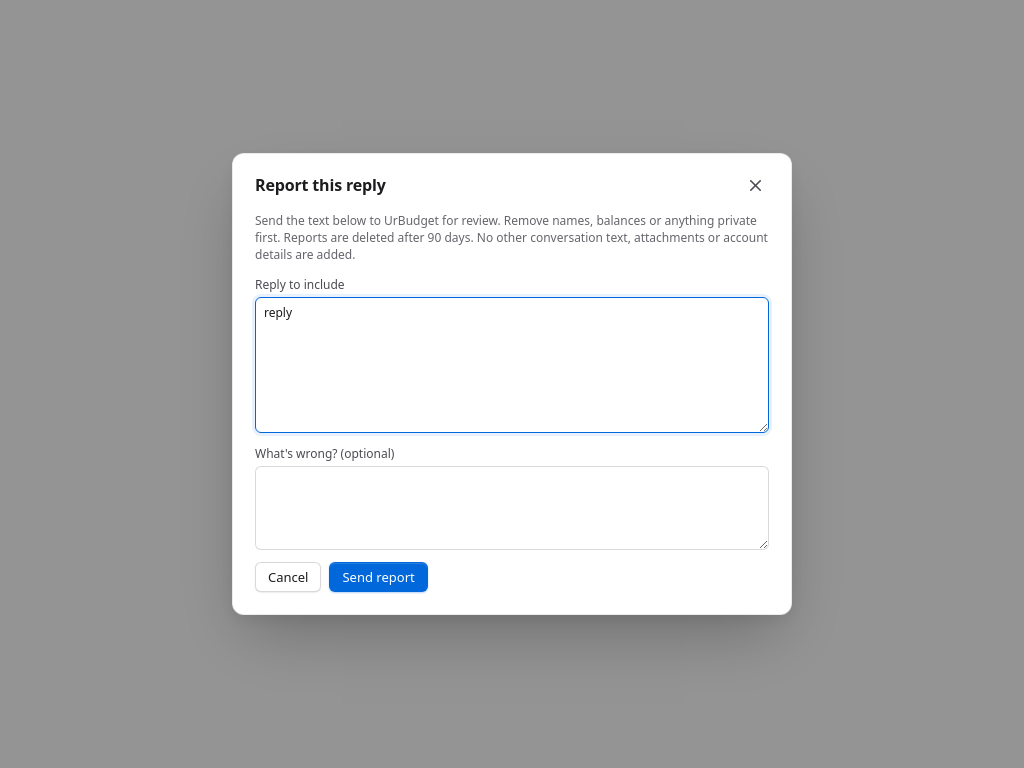
Test: preserves edits after a network failure and permits an explicit retry
The width and height of the screenshot is (1024, 768).
Type "Unsafe advice" into the text box labelled "What's wrong? (optional)" at x=512, y=508, box [255,466,769,550]
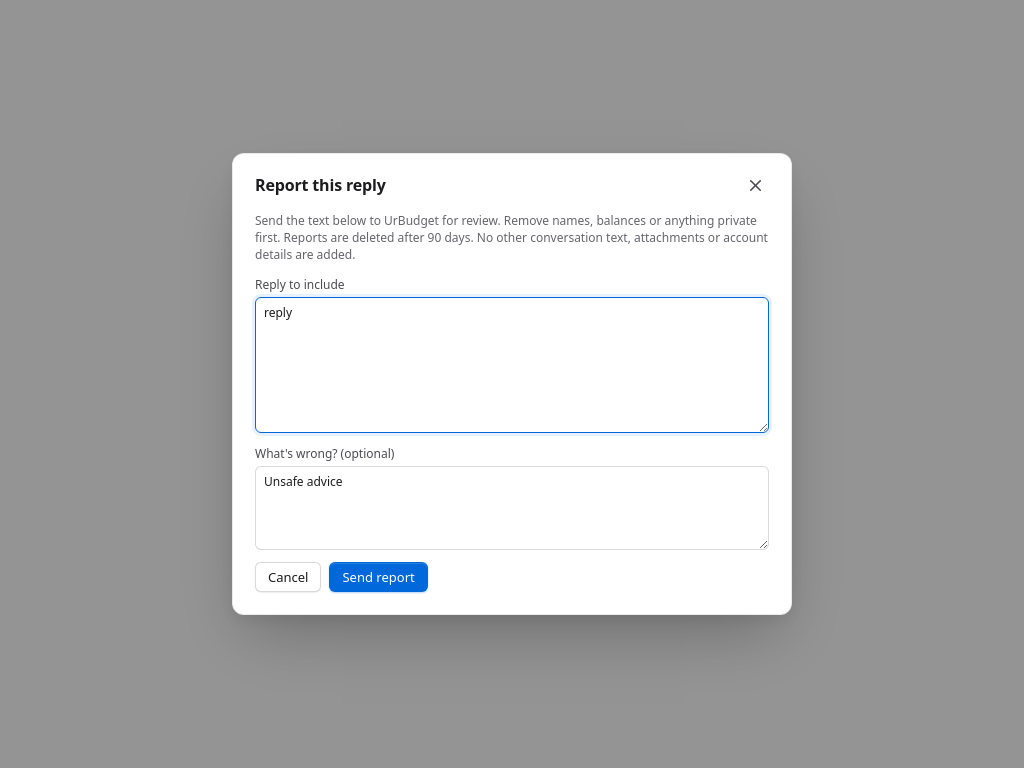
Click the button "Send report" at x=379, y=577, box [330,562,428,592]
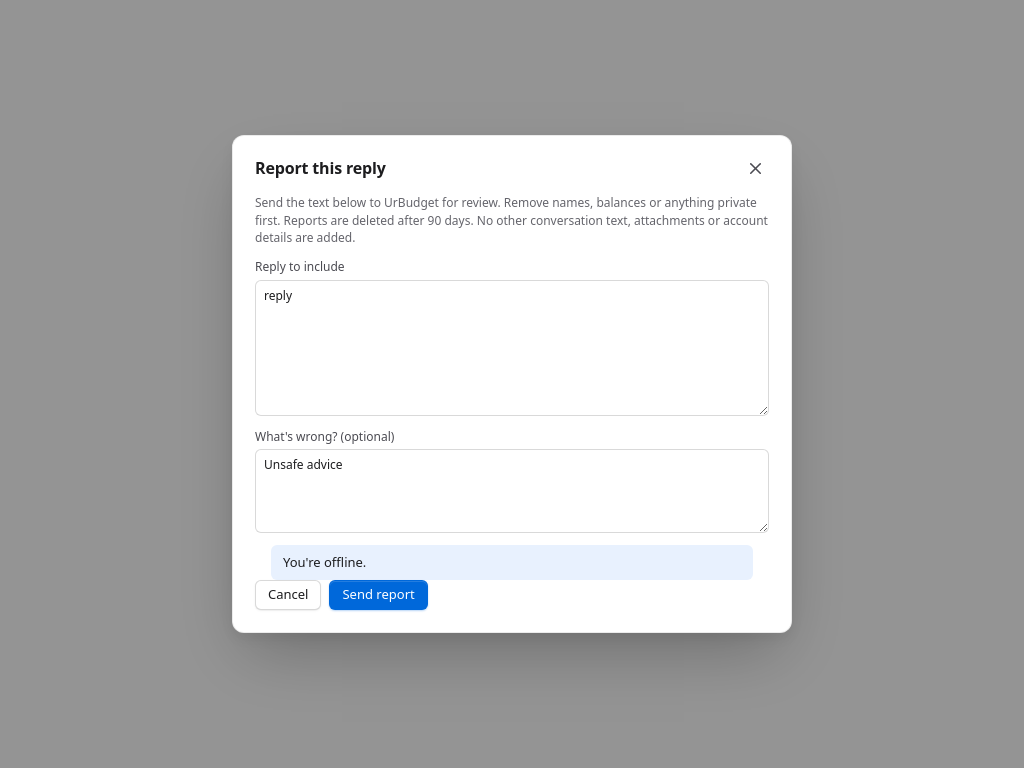
Check: the message reads "You're offline.", box [283,553,366,571]
Click the button "Send report" at x=379, y=595, box [330,580,428,610]
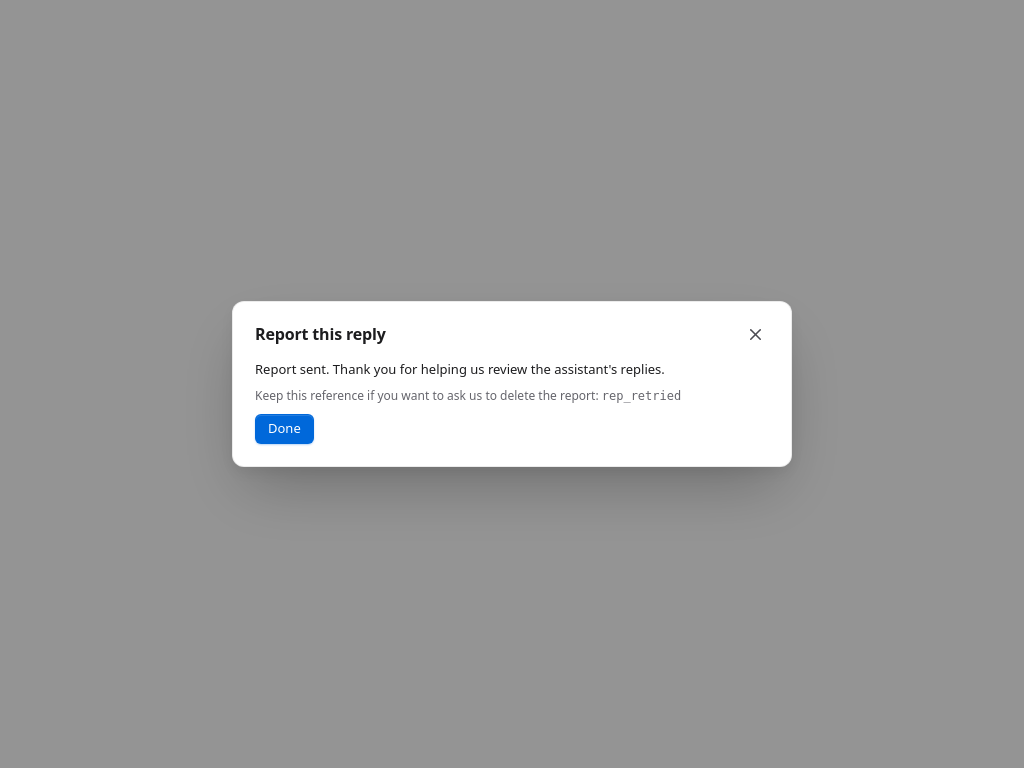
Check: the text "rep_retried" is shown, box [602,389,681,403]
